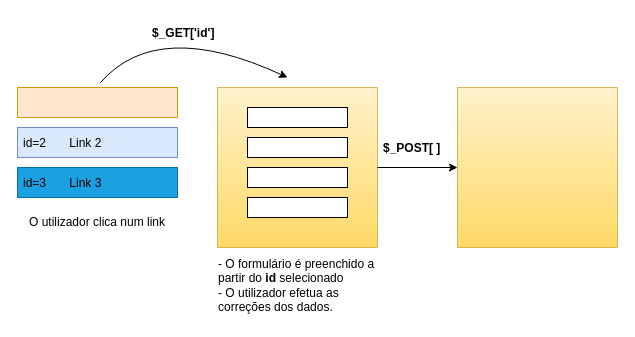
This 635x337 diagram has some shape labels left out. Here are the shapes that lost their labels. From the top down, the centre of each, then its label:
the point at 97,102: id=1 Link 1
the point at 537,167: Registo atualizado
